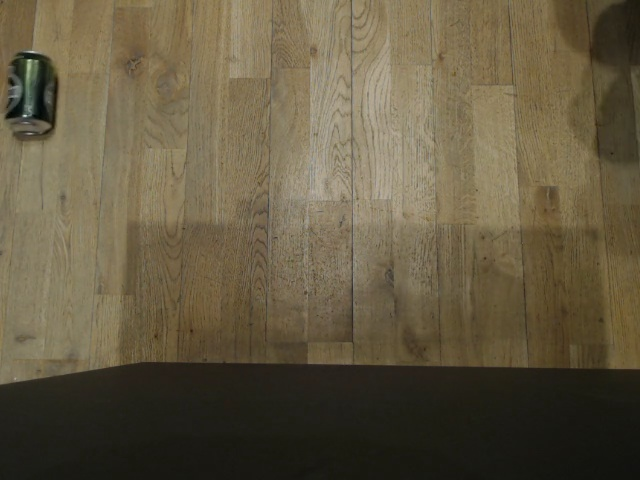beer: (3, 48, 61, 141)
